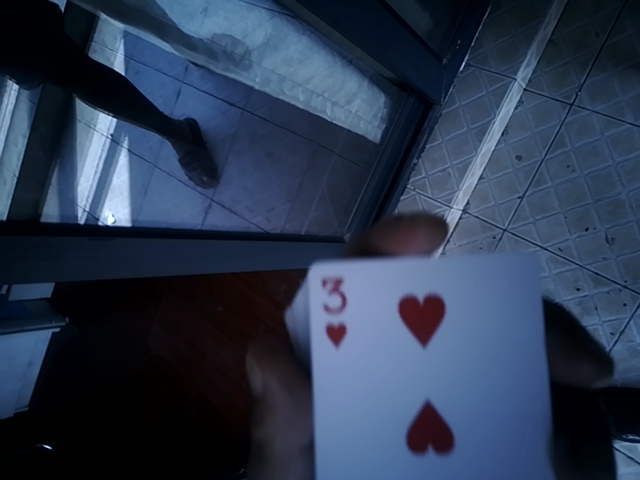hx 3: (300, 251, 614, 479)
